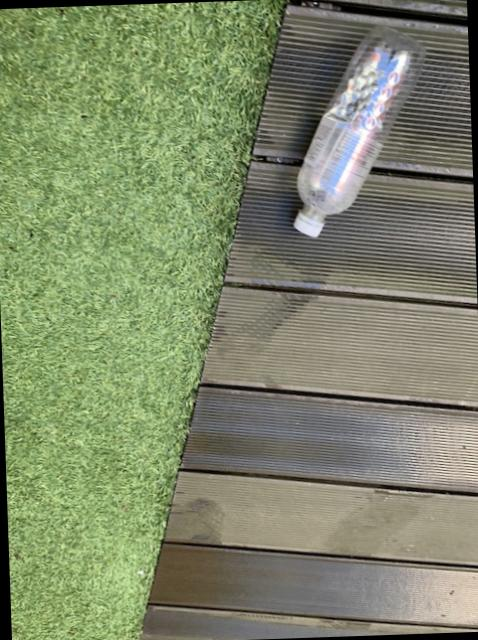plastic: (293, 28, 424, 237)
